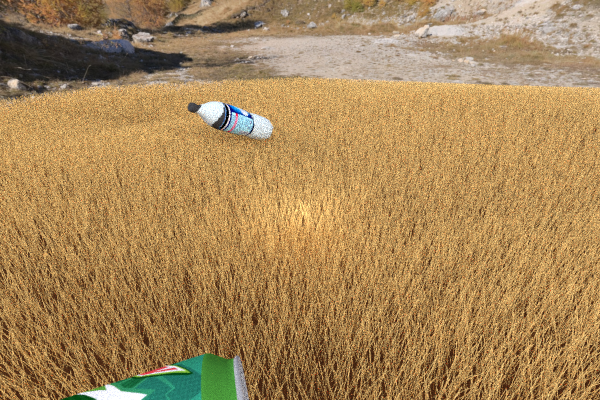bottle: (187, 101, 273, 140)
can: (0, 353, 261, 400)
